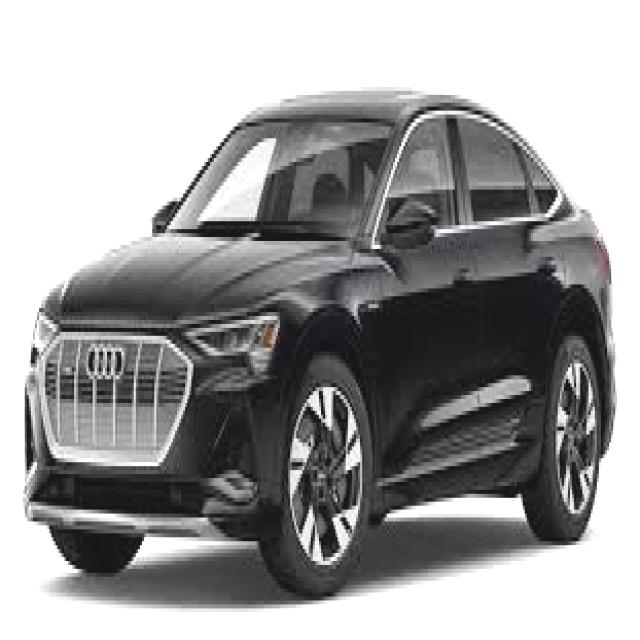SUV: (20, 79, 618, 597)
